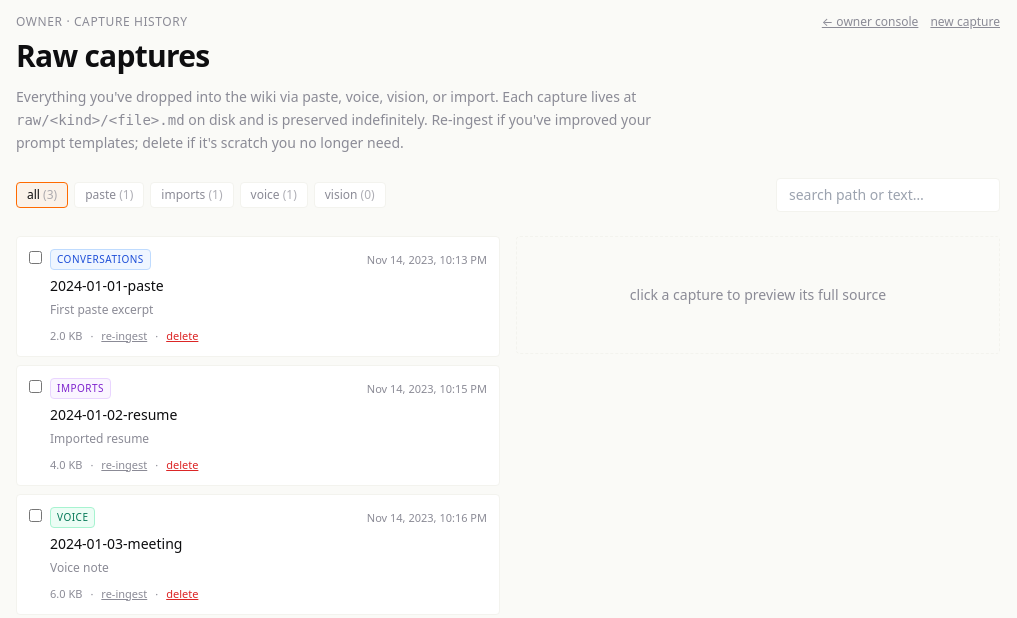
Scenario: CapturesPage › clicking a capture row loads its content and shows the side panel
// Clicks on the inner text bubble up to the row's onClick handler.
Click the text "2024-01-01-paste" at [107, 286], box [50,276,164,295]
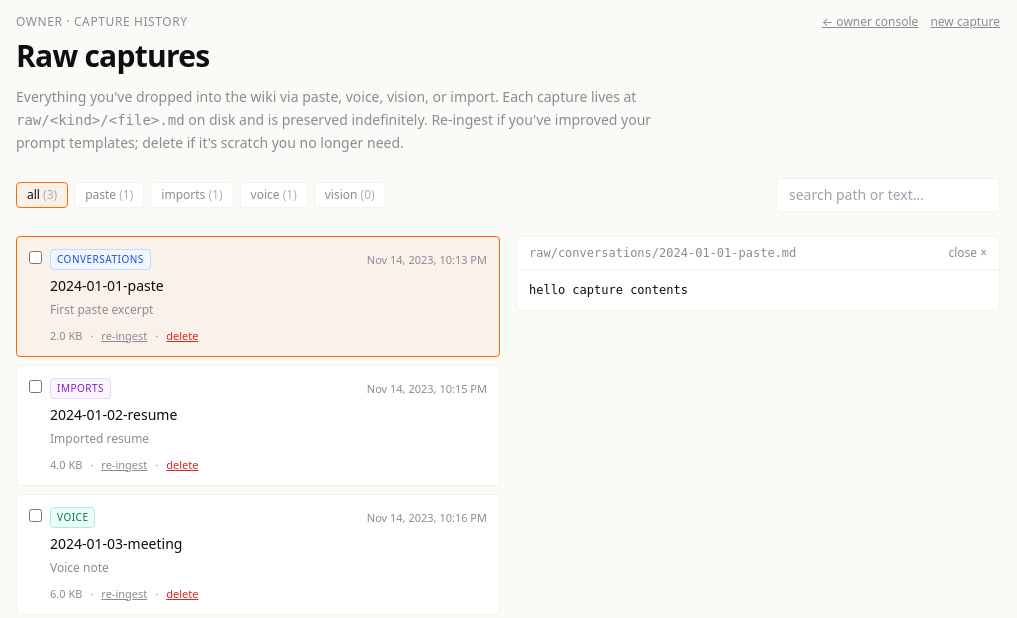
Expected: the text "hello capture contents" is shown, [529,283,688,297]
Expected: the text "raw/conversations/2024-01-01-paste.md" is shown, [529,245,796,261]
